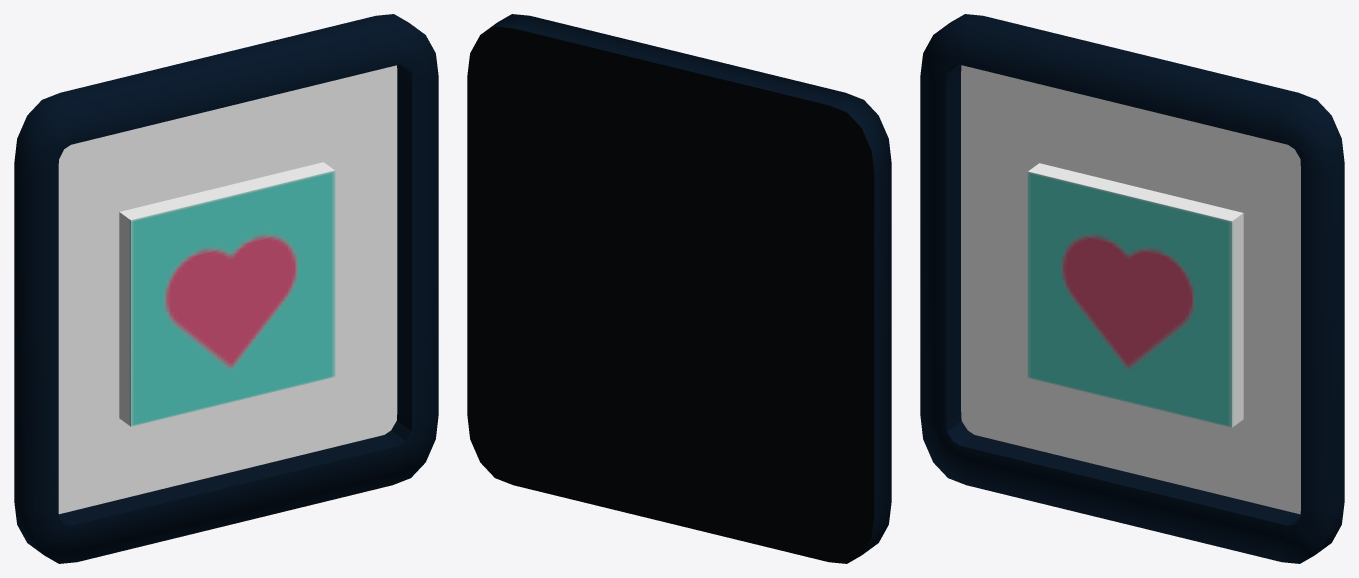
The model's file is KHIP_Square_Frame.FBX.
3 renders of one model, left to right at view 1: azimuth 30°, elevation 25°; view 2: azimuth 150°, elevation 25°; view 3: azimuth 330°, elevation 25°, orthographic.
Visible parts, largest first — view 1: KHIP_Square_Frame_a, KHIP_Square_Frame, KHIP_Square_Frame_Picture; view 2: KHIP_Square_Frame_Back, KHIP_Square_Frame; view 3: KHIP_Square_Frame_a, KHIP_Square_Frame, KHIP_Square_Frame_Picture.
Part boxes in pixels (<box>): KHIP_Square_Frame_a: <box>58,65,397,514</box>; KHIP_Square_Frame: <box>14,14,438,563</box>; KHIP_Square_Frame_Picture: <box>119,162,335,426</box>; KHIP_Square_Frame_Back: <box>467,26,874,563</box>; KHIP_Square_Frame: <box>482,14,891,554</box>; KHIP_Square_Frame_a: <box>961,65,1300,514</box>; KHIP_Square_Frame: <box>920,14,1344,563</box>; KHIP_Square_Frame_Picture: <box>1027,163,1243,427</box>.
Size of the model in its own units: 24.06 by 25.81 by 1.8.
